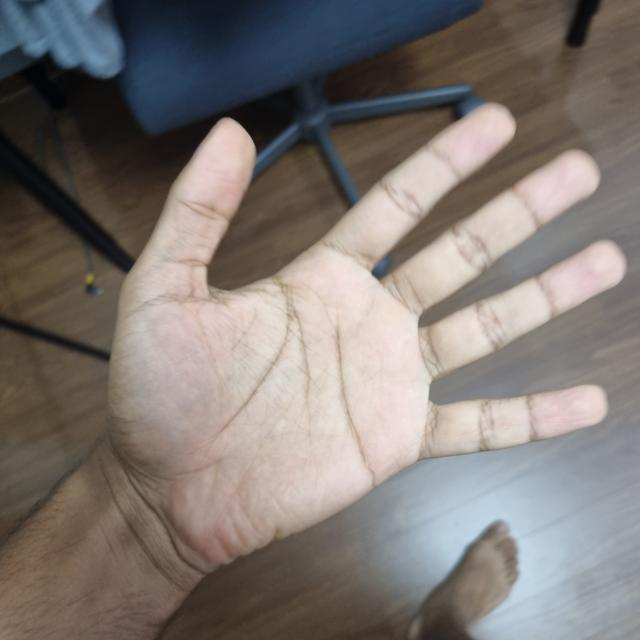Paper: (114, 121, 426, 557)
